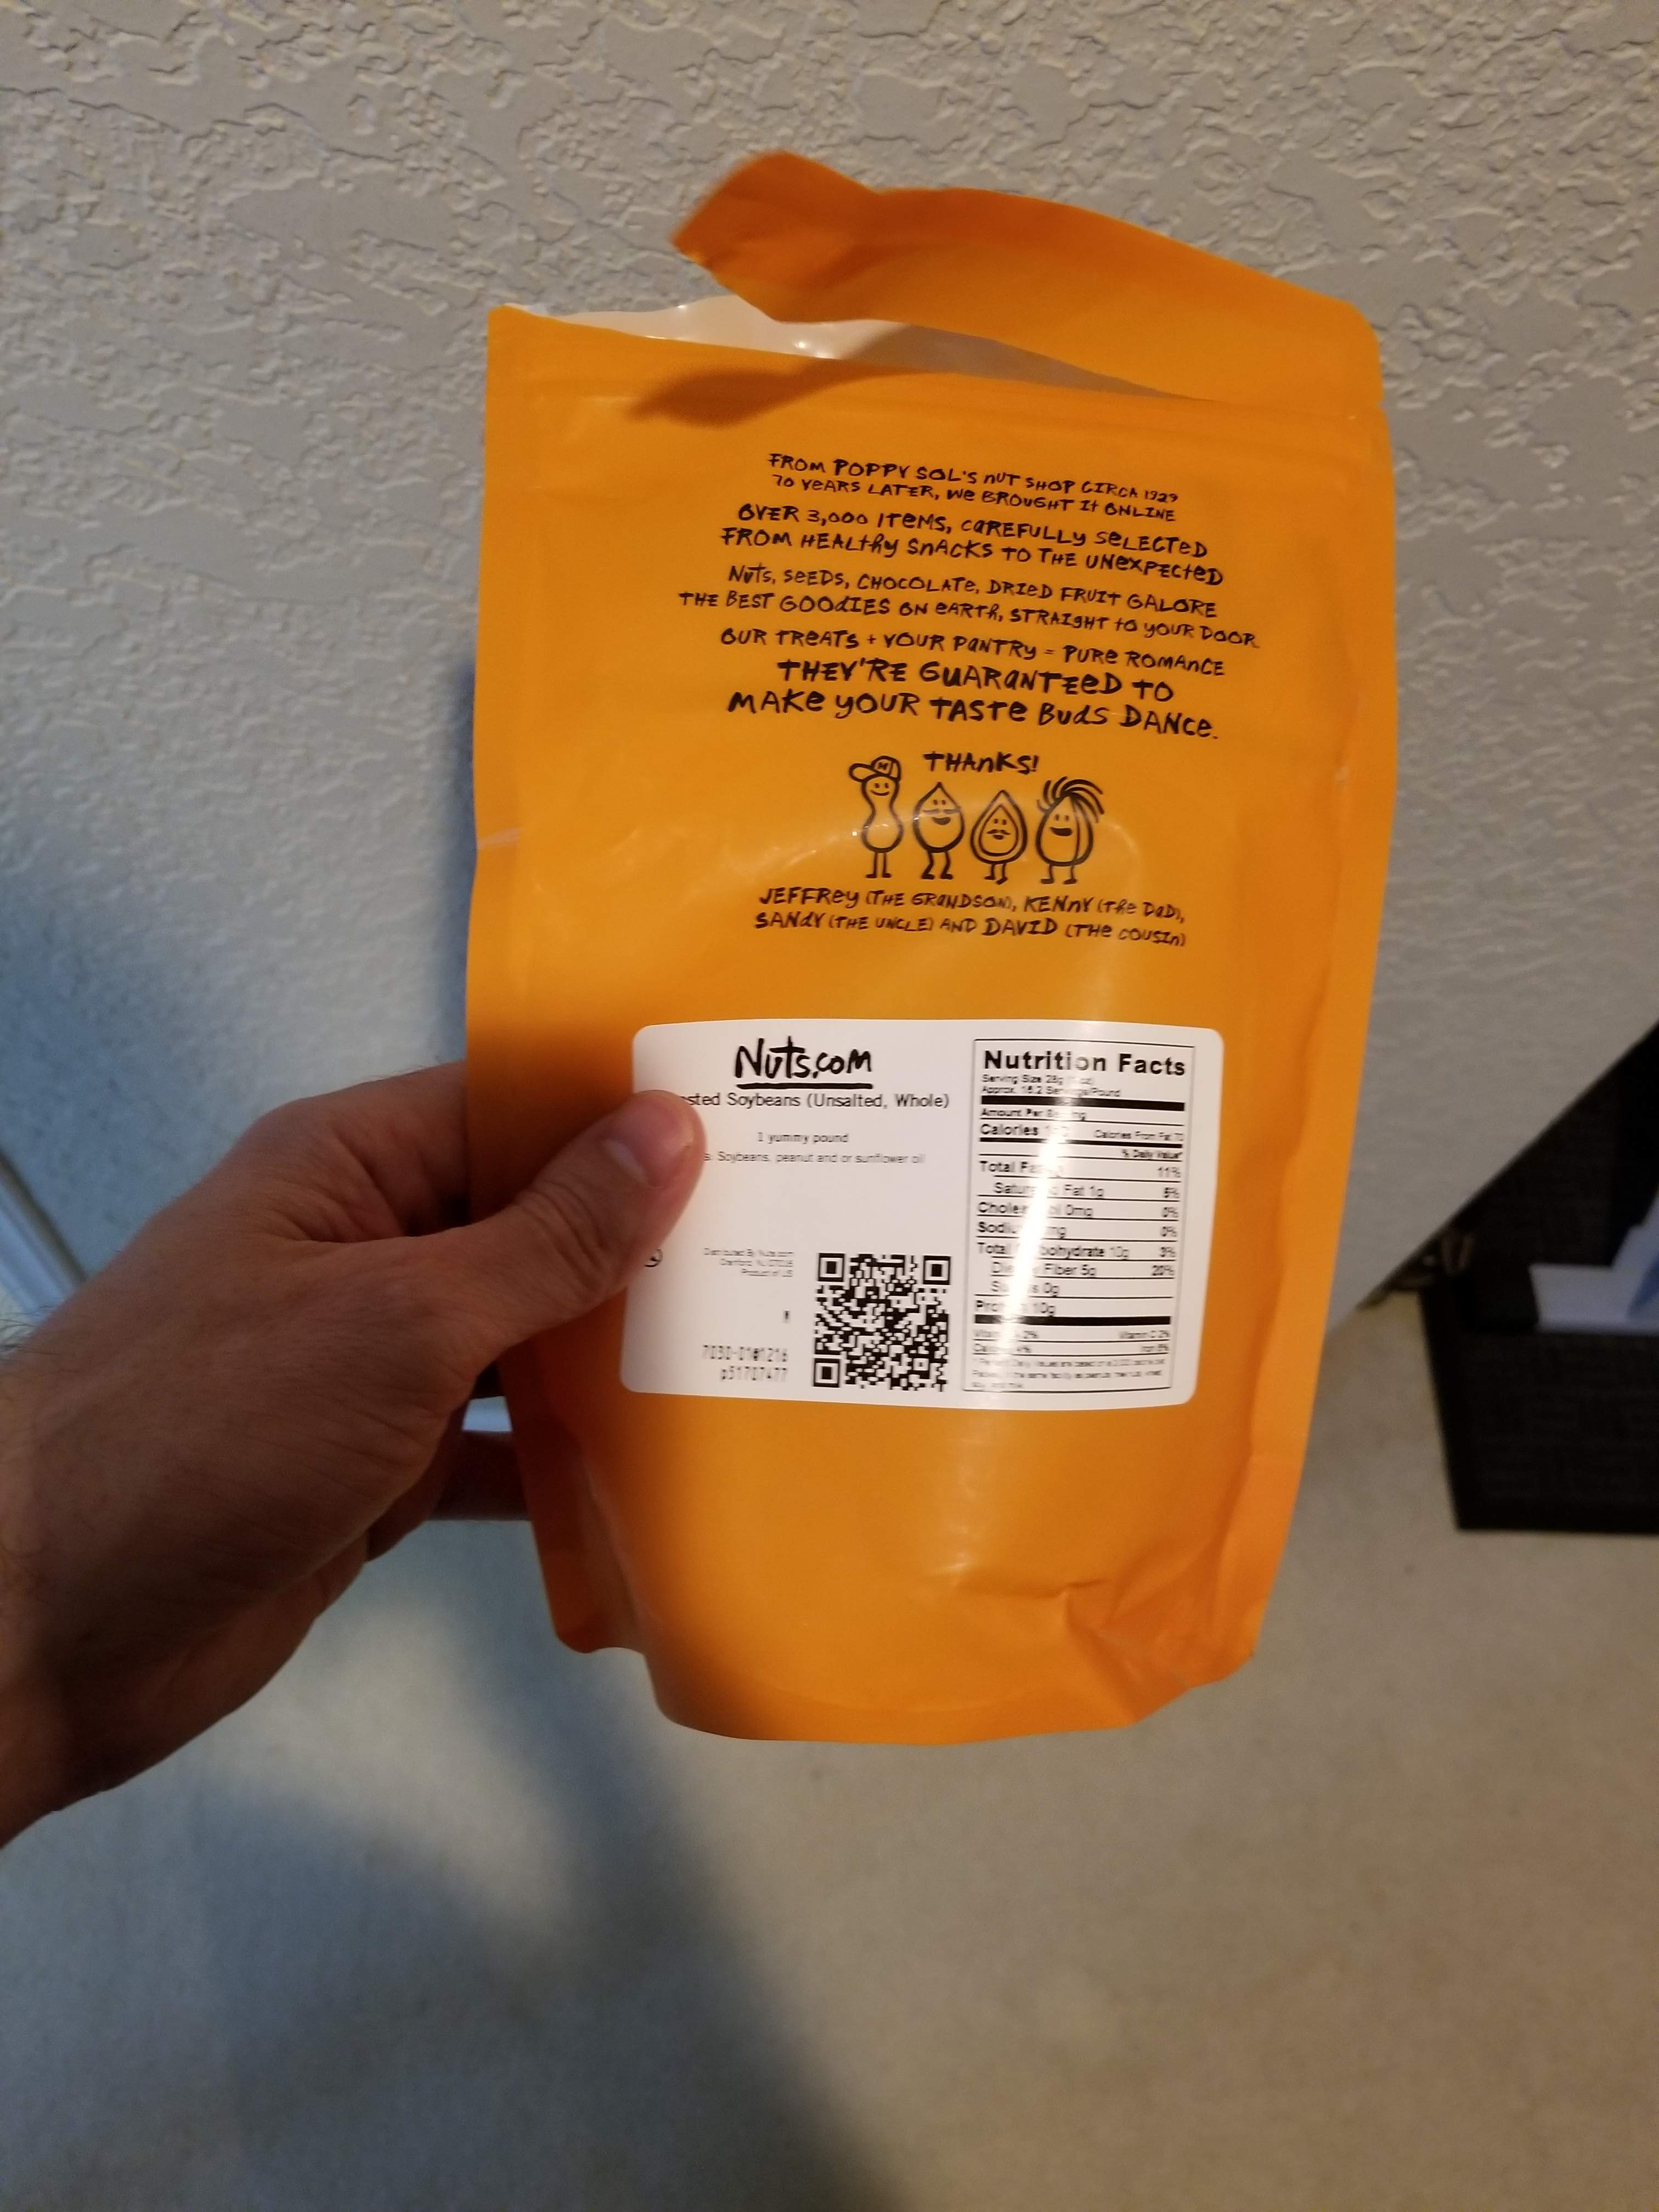QR_CODE: (788, 1216, 981, 1428)
